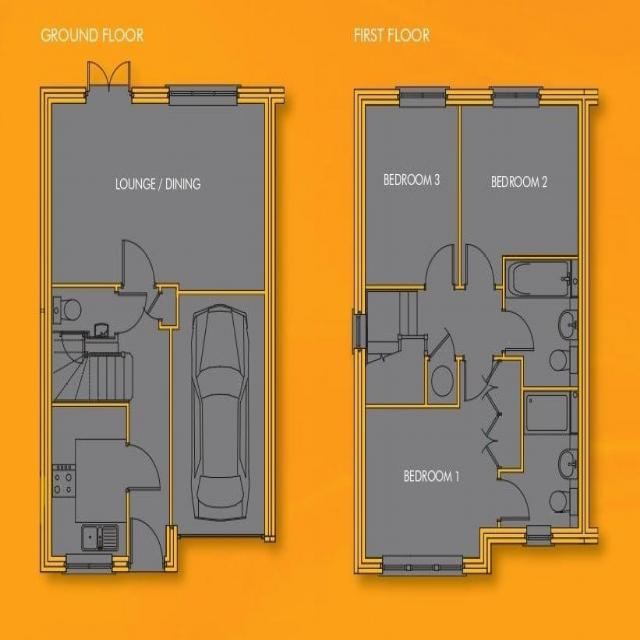DOOR: (129, 515, 166, 573), (126, 441, 163, 495), (120, 238, 157, 288), (463, 241, 496, 291), (462, 355, 496, 403), (423, 242, 457, 290), (501, 308, 536, 353), (497, 477, 531, 523)
DOUBLE DOOR: (86, 59, 132, 98)
ROOM: (39, 59, 277, 295), (353, 355, 532, 576), (458, 86, 590, 290), (353, 86, 462, 291), (39, 401, 162, 574)
WINDOW: (380, 553, 464, 577), (167, 84, 240, 108), (394, 84, 451, 109), (488, 85, 544, 110), (64, 552, 114, 575), (351, 308, 368, 355), (526, 524, 552, 546)
